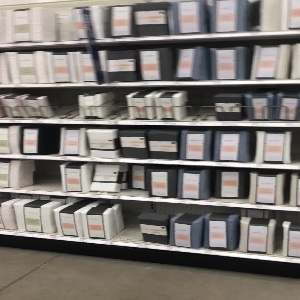void: (14, 159, 64, 194), (110, 199, 140, 245), (183, 84, 215, 122), (51, 84, 78, 119)
